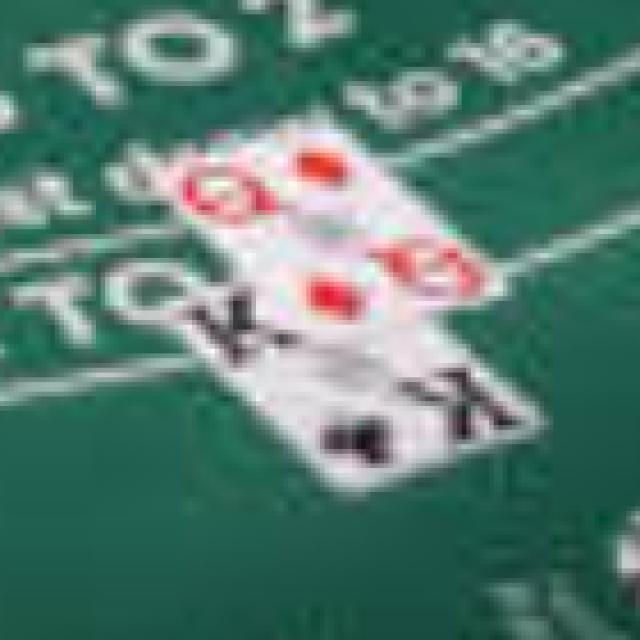Card-K: (165, 275, 549, 500)
Card-Q: (152, 115, 510, 349)
